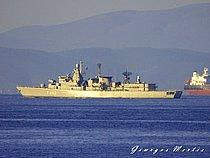MIL_Ship: (15, 56, 183, 99)
